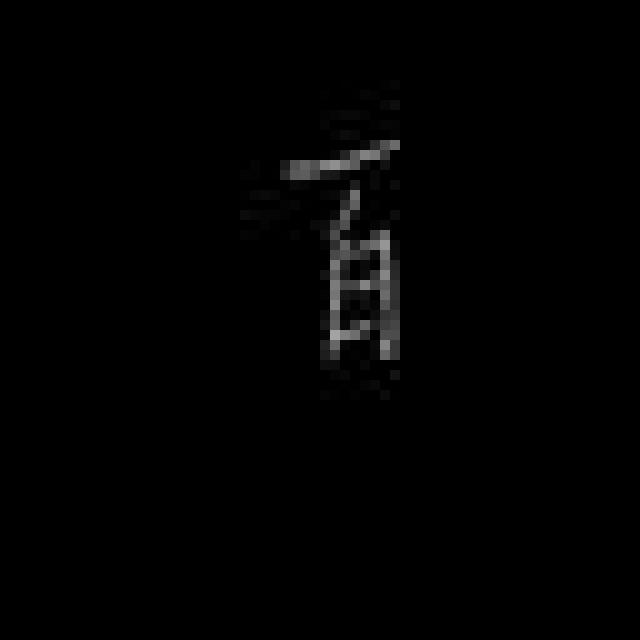100 -a hundred-: (278, 123, 407, 376)
